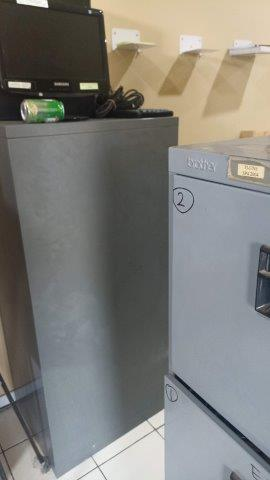kaleng: (19, 97, 66, 124)
